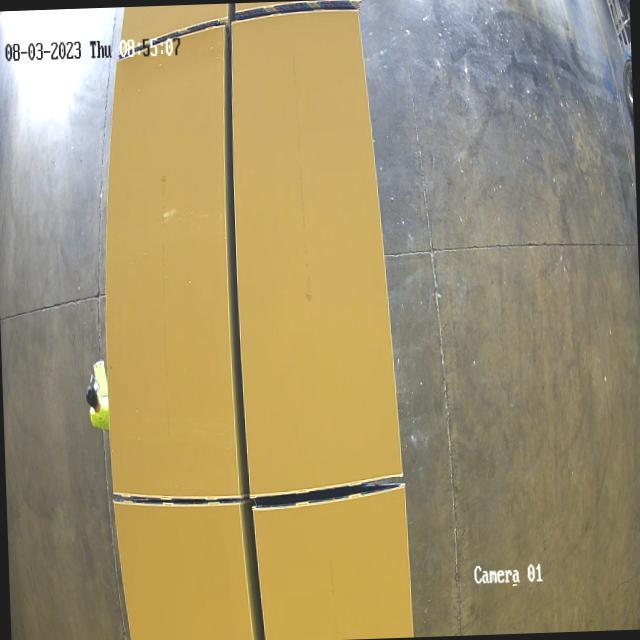person: (81, 360, 110, 434)
